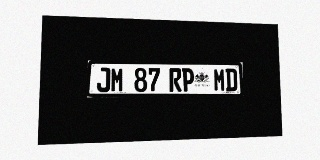7: (148, 68, 160, 92)
8: (134, 68, 147, 92)
D: (225, 68, 237, 91)
J: (97, 67, 110, 92)
M: (111, 67, 124, 92), (213, 68, 225, 91)
P: (182, 68, 194, 92)
R: (169, 68, 182, 92)
